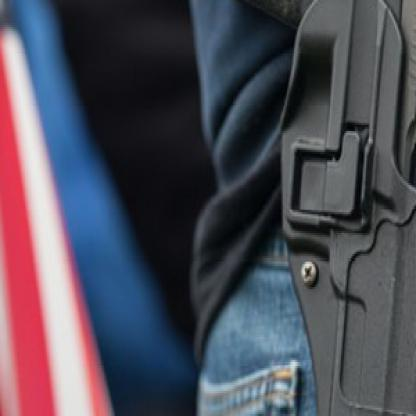gun: (170, 0, 414, 414)
